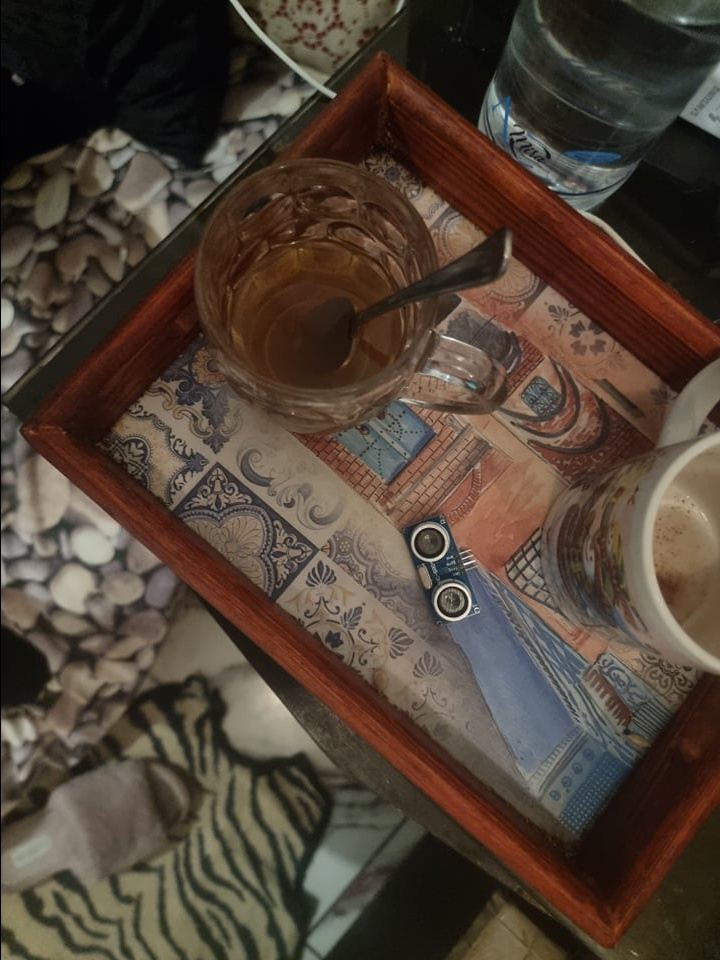SENSOR: (406, 514, 481, 622)
